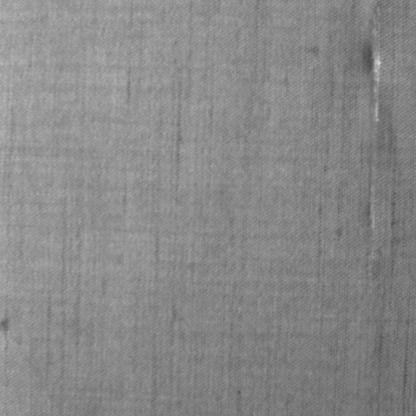thread error: (358, 0, 390, 272)
